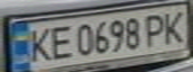0: (72, 20, 96, 56)
6: (90, 18, 112, 55)
8: (124, 15, 145, 51)
9: (106, 17, 127, 53)
E: (45, 22, 75, 61)
K: (21, 25, 54, 63), (157, 7, 190, 44)
P: (139, 11, 172, 47)
